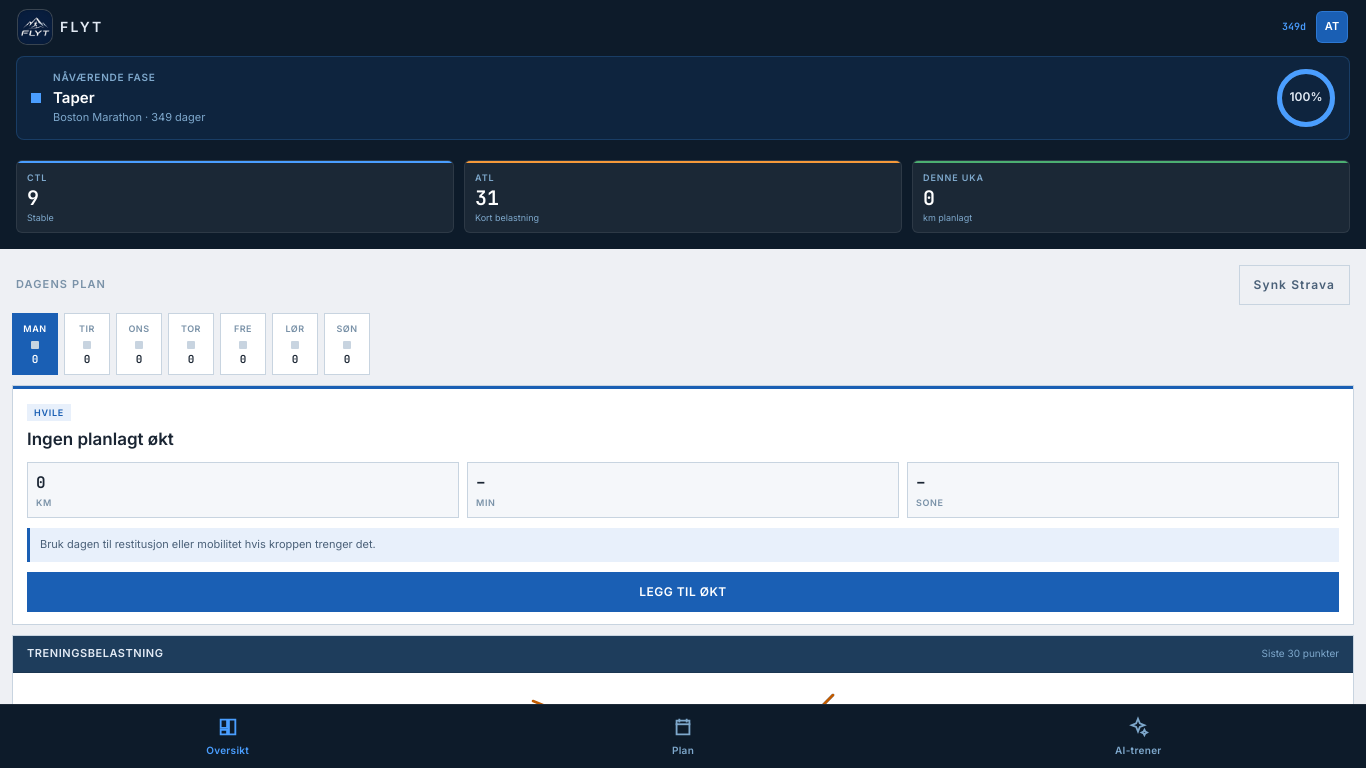
ControlCenterPage smoke › switches between mobile dashboard, plan, and coach tabs
Click the button "Plan": coordinates (683, 736) [455, 705, 911, 767]
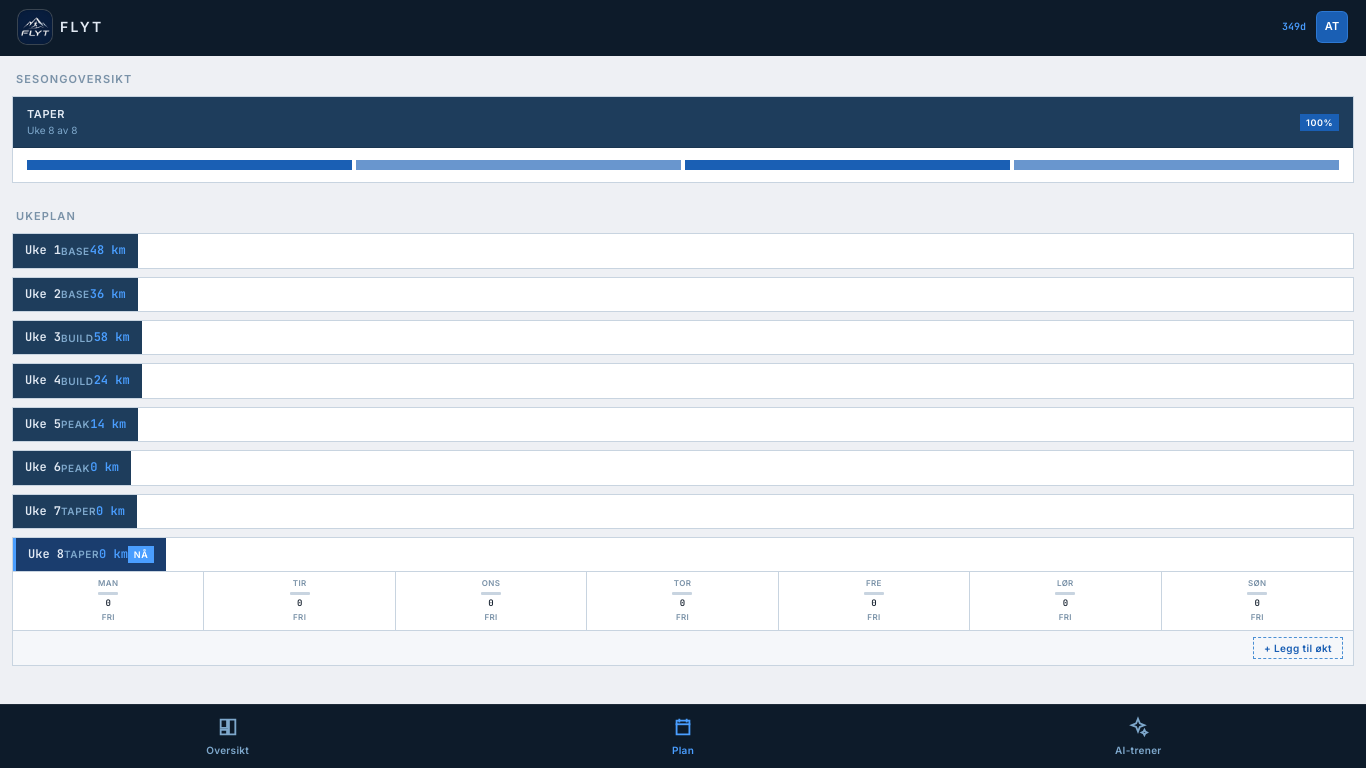
Now the heading "Sesongoversikt" is shown, box [16, 72, 132, 88]
Now the text "Uke 1" is shown, box [25, 242, 61, 260]
Click the button "AI-trener": coordinates (1138, 736) [911, 705, 1365, 767]
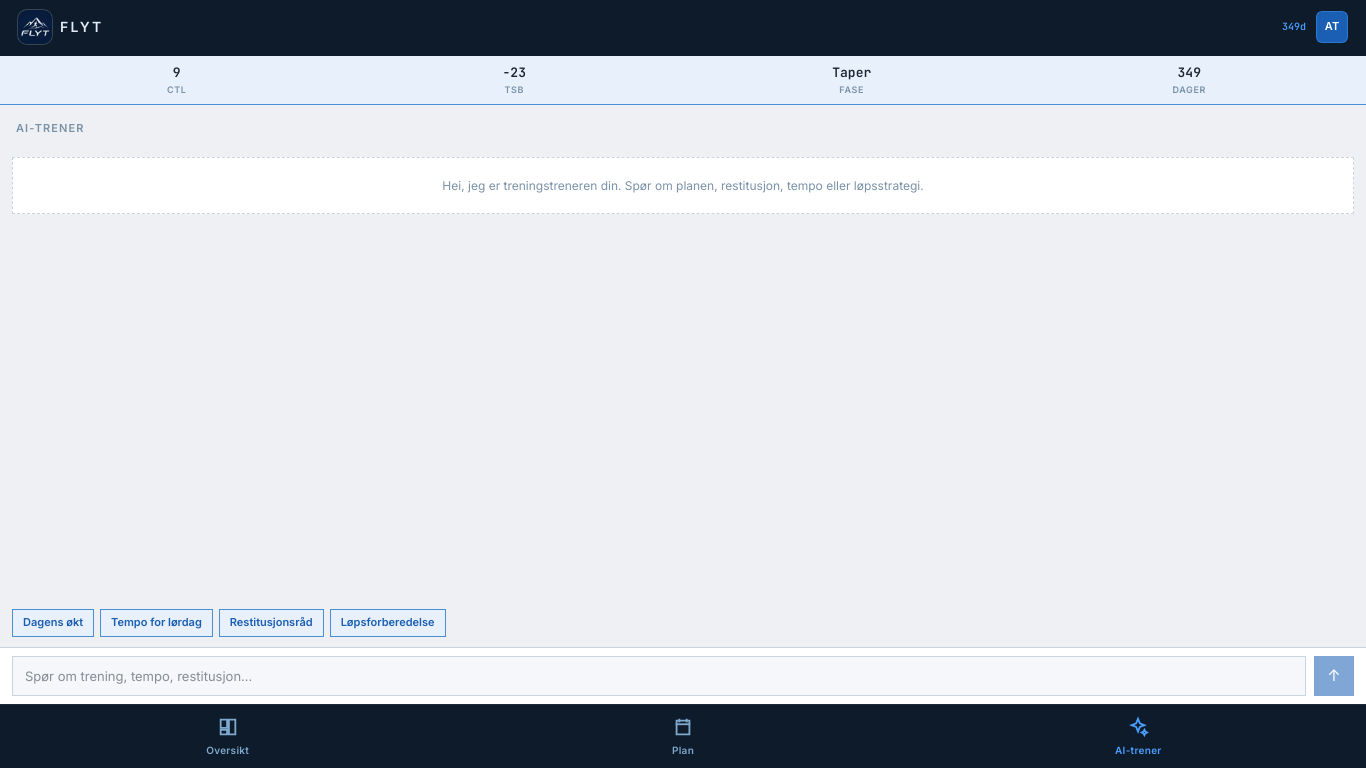
Now the heading "AI-trener" is shown, box [16, 121, 84, 137]
Now the field with placeholder "Spør om trening, tempo, restitusjon..." is shown, box [12, 656, 1306, 696]
